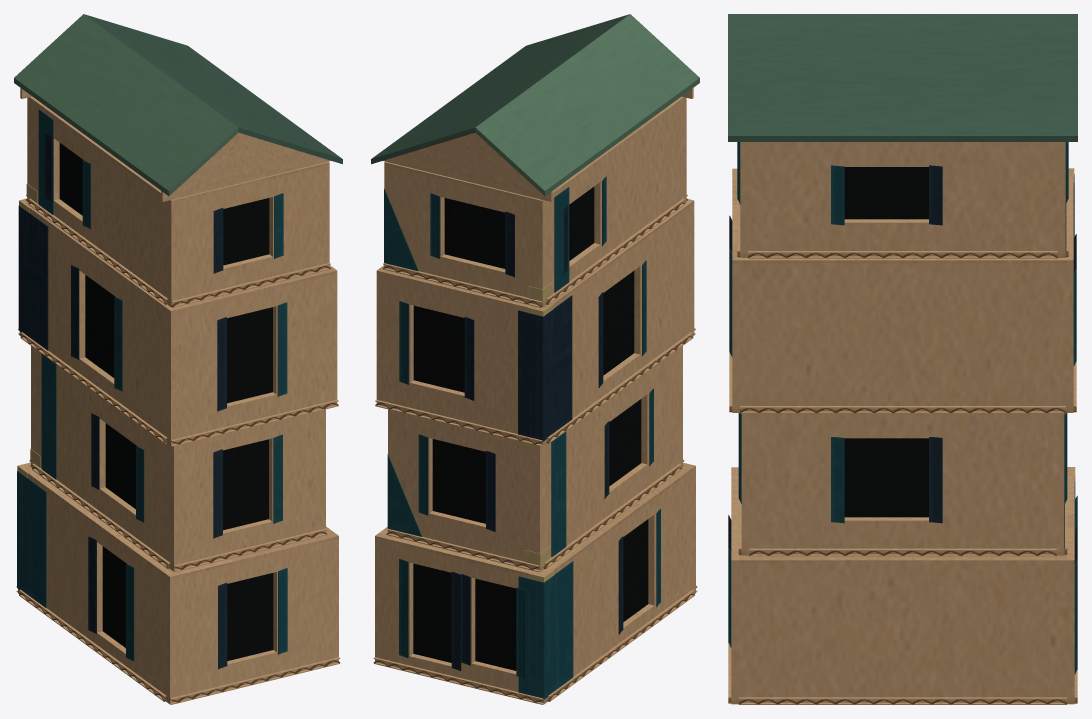
File: gable-house.fbx
3 renders of one model, left to right at view 1: azimuth 30°, elevation 25°; view 2: azimuth 150°, elevation 25°; view 3: azimuth 270°, elevation 25°, orthographic. The views are drawn at different scales.
Visible parts, largest first — view 1: gable-house; view 2: gable-house; view 3: gable-house.
Part boxes in pixels (bbox=[...]): gable-house: bbox=[14, 14, 342, 704]; gable-house: bbox=[371, 14, 699, 704]; gable-house: bbox=[728, 14, 1077, 704].
Size of the model in its own units: 7000 by 21600 by 10800.
1 material, 1 textured.
